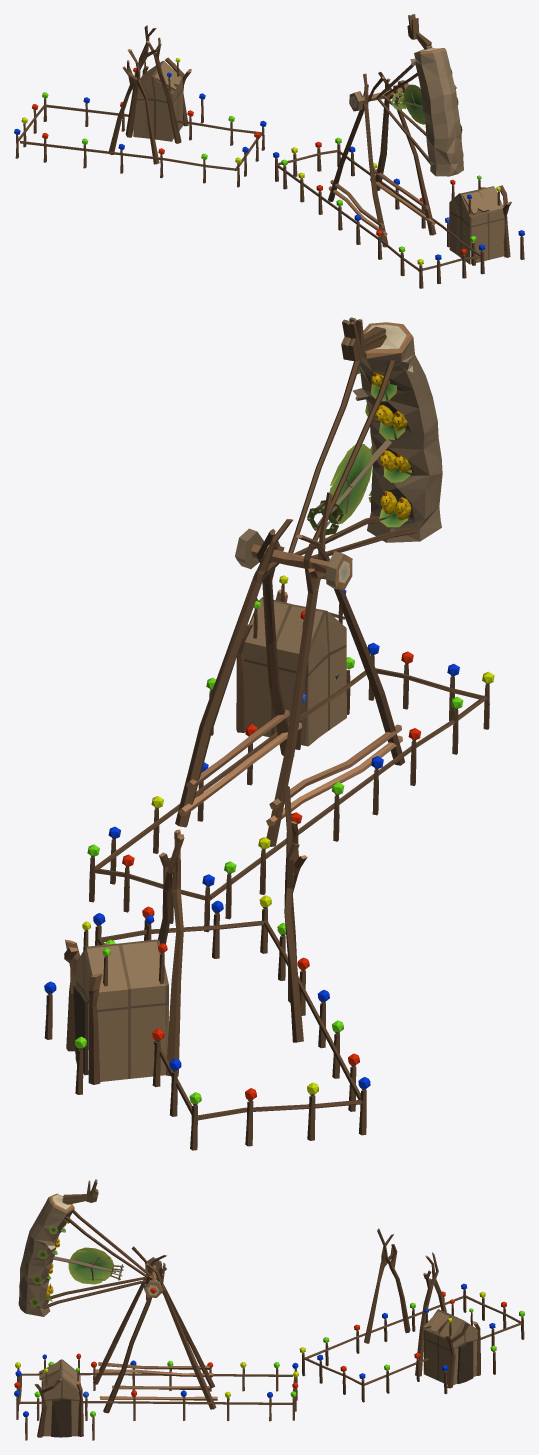
3 views of the same model, one above another, from view 1: azimuth 30°, elevation 25°; view 2: azimuth 150°, elevation 25°; view 3: azimuth 270°, elevation 25° (orthographic). The views are drawn at different scales.
Parts seen in each view (by area): view 1: nestStage_30, ferrisWheelWheel.001; view 2: nestStage_30, ferrisWheelWheel.001; view 3: nestStage_30, ferrisWheelWheel.001.
Part boxes in pixels (bbox=[...]): nestStage_30: bbox=[14, 25, 524, 288]; ferrisWheelWheel.001: bbox=[349, 14, 463, 176]; nestStage_30: bbox=[44, 492, 494, 1150]; ferrisWheelWheel.001: bbox=[235, 317, 442, 589]; nestStage_30: bbox=[14, 1228, 524, 1440]; ferrisWheelWheel.001: bbox=[18, 1179, 162, 1316].
Size of the model in its own units: 5.79 by 4.67 by 9.61.
